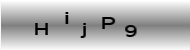9: (124, 24, 137, 37)
H: (33, 22, 49, 36)
P: (100, 16, 115, 29)
i: (63, 11, 68, 24)
j: (80, 22, 86, 38)
